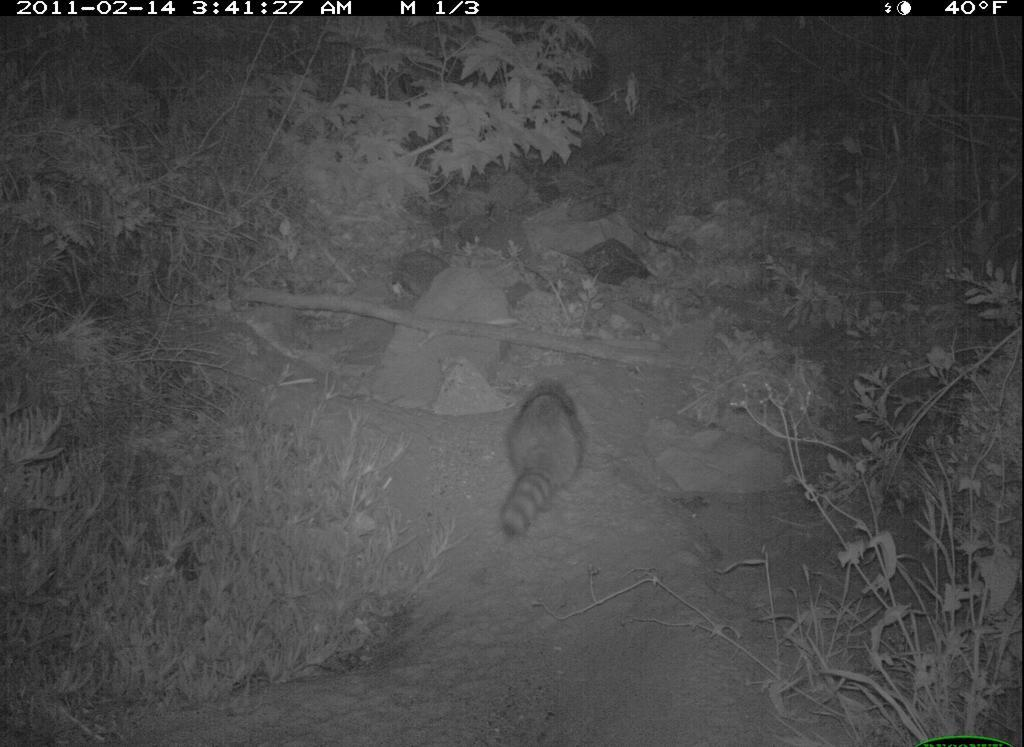raccoon: (492, 376, 593, 545)
